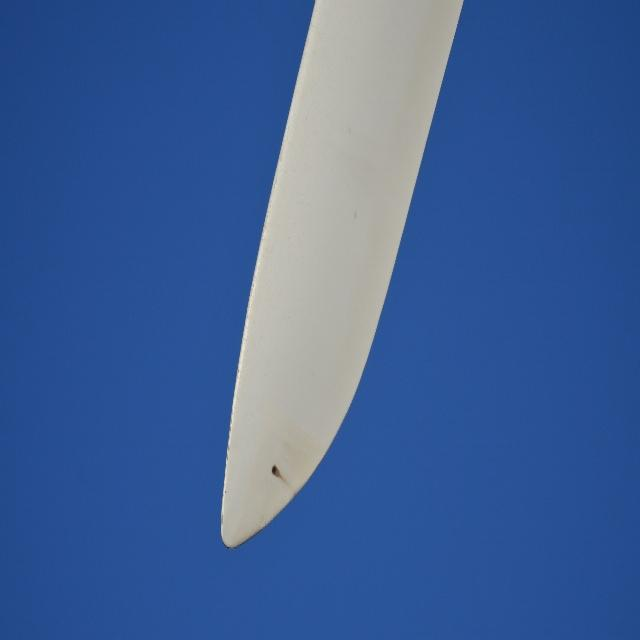Burn Mark: (269, 464, 286, 484)
